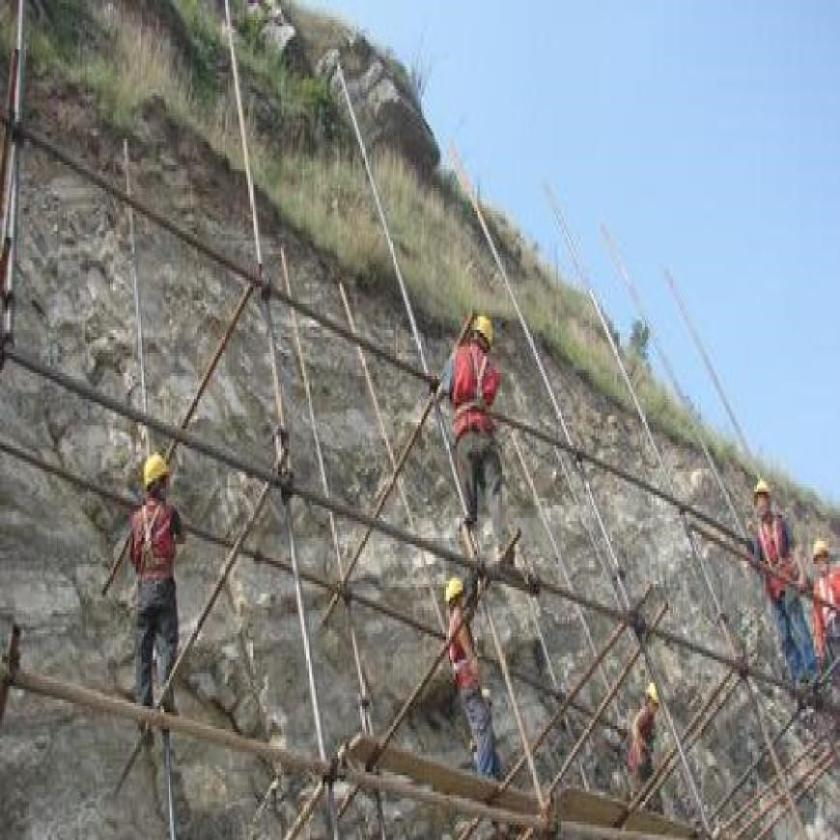Con_casco: (139, 449, 171, 503), (468, 316, 496, 360), (443, 576, 470, 616), (752, 479, 774, 518), (812, 538, 830, 572)
